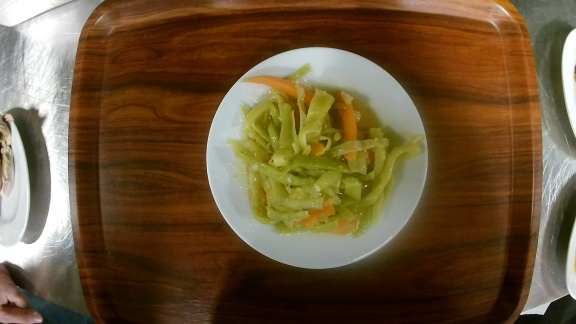tazefasulye: (205, 46, 430, 270)
